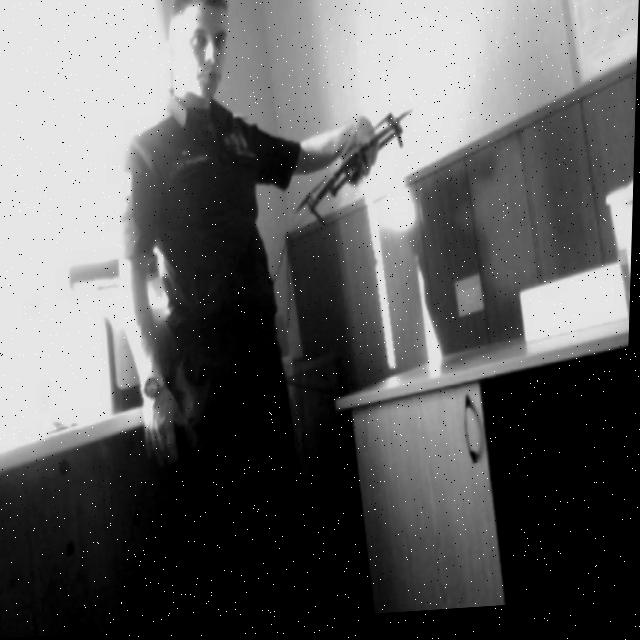drone: (296, 96, 420, 242)
